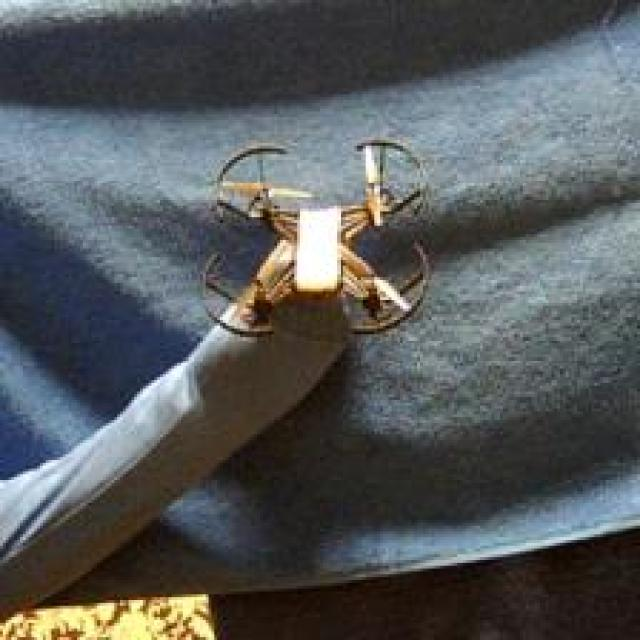drone: (204, 137, 433, 346)
